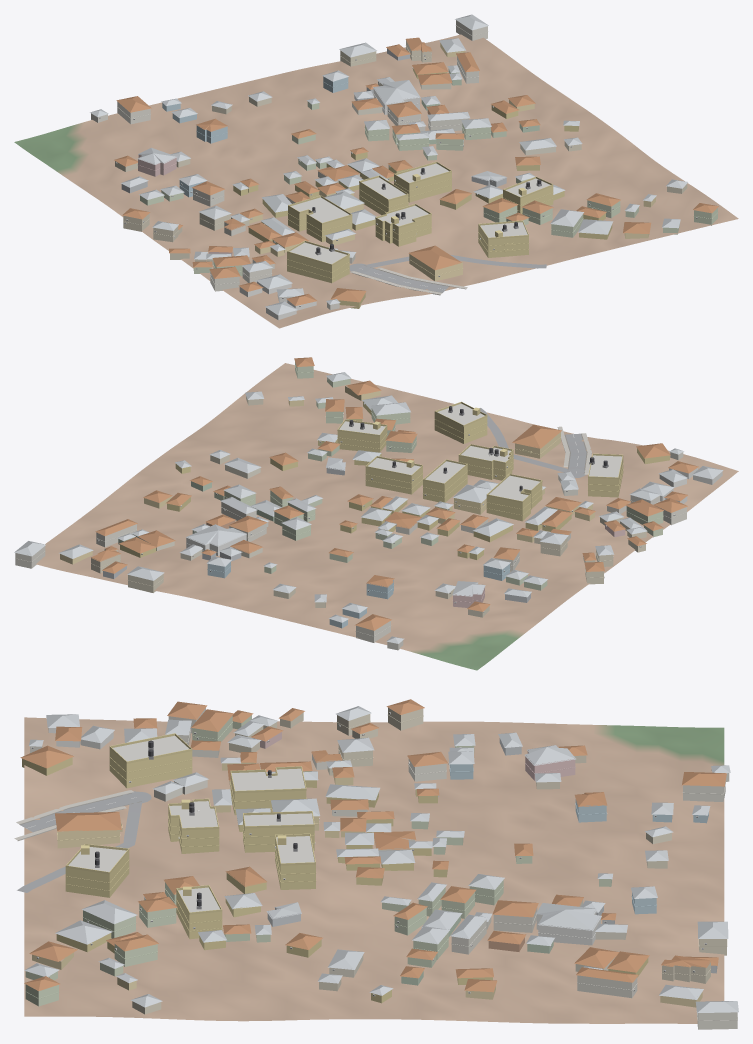
3 views of the same model, one above another, from view 1: azimuth 30°, elevation 25°; view 2: azimuth 150°, elevation 25°; view 3: azimuth 270°, elevation 25° (orthographic). The views are drawn at different scales.
Visible parts, largest first — view 1: Terrain-col, Buildings-col, Details, Roads-col, Sidewalks-col; view 2: Terrain-col, Buildings-col, Details, Roads-col; view 3: Terrain-col, Buildings-col, Details, Roads-col, Sidewalks-col.
Part boxes in pixels (x1,y1,x2,y2): Terrain-col: (14, 34, 738, 328); Buildings-col: (90, 14, 718, 320); Details: (99, 25, 717, 306); Roads-col: (349, 255, 546, 292); Sidewalks-col: (350, 267, 467, 295); Terrain-col: (36, 363, 738, 670); Buildings-col: (14, 357, 723, 650); Details: (15, 365, 687, 636); Roads-col: (479, 408, 587, 477); Terrain-col: (24, 717, 724, 1023); Buildings-col: (20, 699, 738, 1029); Details: (25, 712, 737, 1020); Roads-col: (17, 791, 151, 892); Sidewalks-col: (14, 790, 133, 840).
Size of the model in its own units: 265 by 18.74 by 265.
